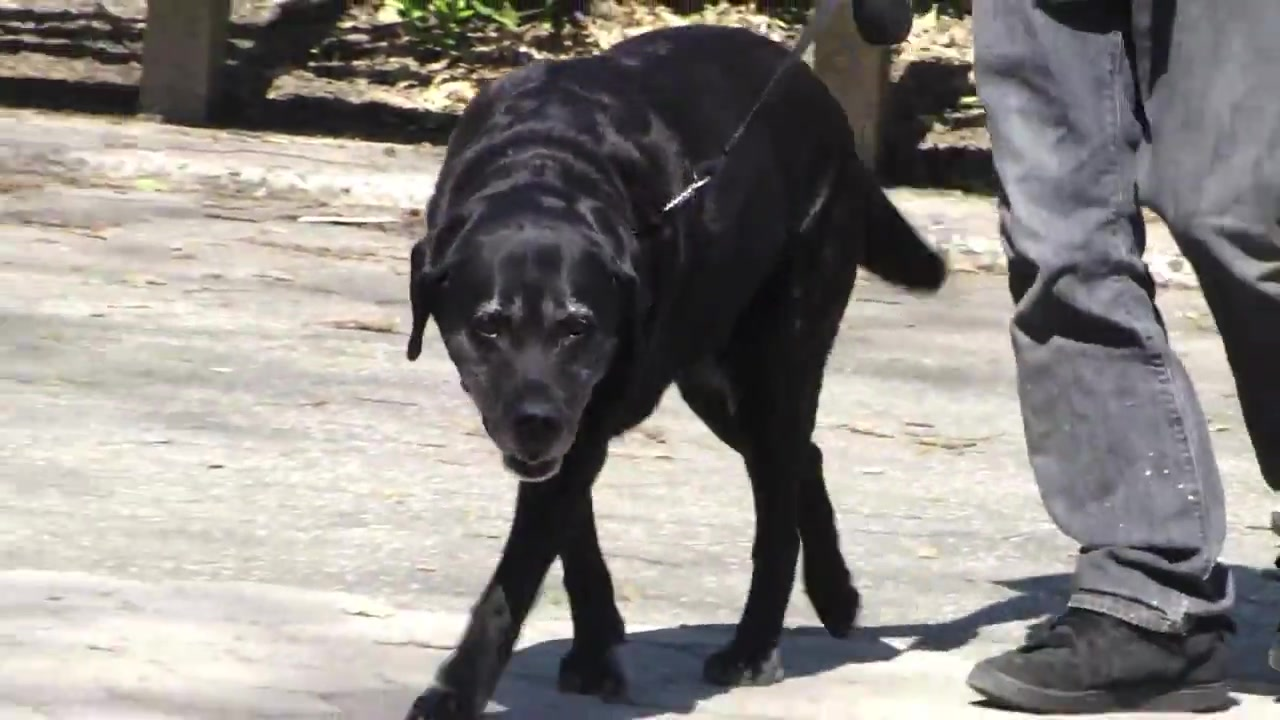dog: (403, 23, 947, 720)
